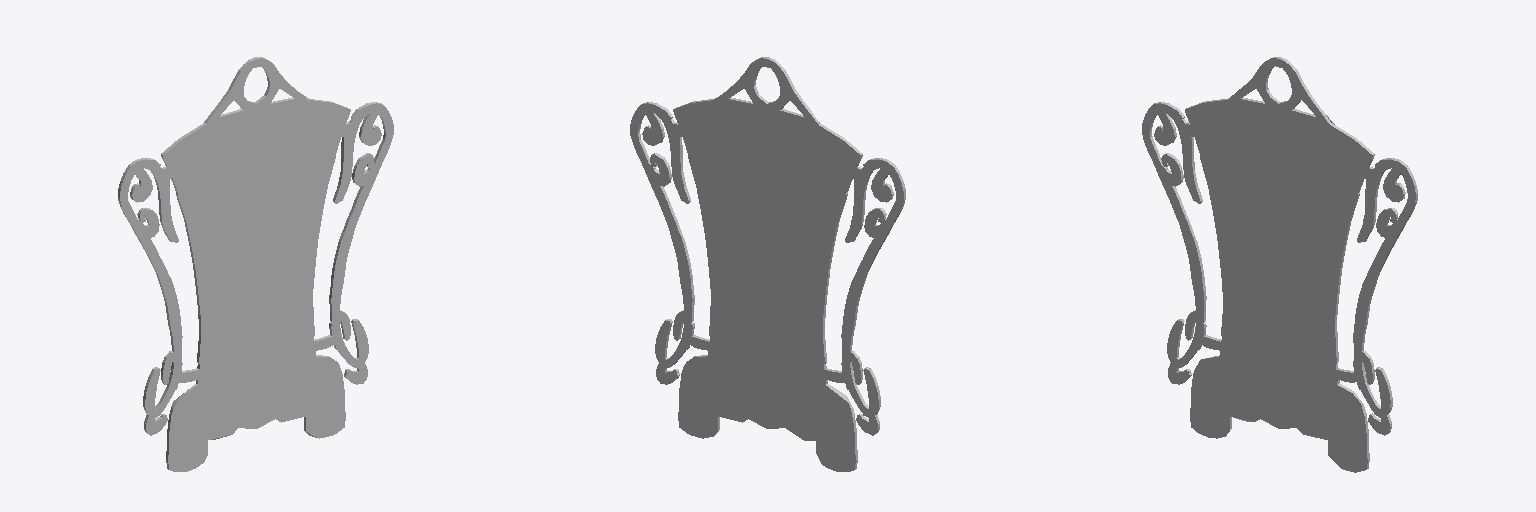
The model's file is lantern.obj.
3 renders of one model, left to right at view 1: azimuth 30°, elevation 25°; view 2: azimuth 150°, elevation 25°; view 3: azimuth 330°, elevation 25°, orthographic.
Parts seen in each view (by area): view 1: pPlane3; view 2: pPlane3; view 3: pPlane3.
Boxes of the visible parts, x1,y1,x2,y2 form: pPlane3: [118, 57, 393, 471]; pPlane3: [630, 57, 905, 471]; pPlane3: [1142, 57, 1417, 472].
Size of the model in its own units: 18.43 by 25.45 by 0.25.